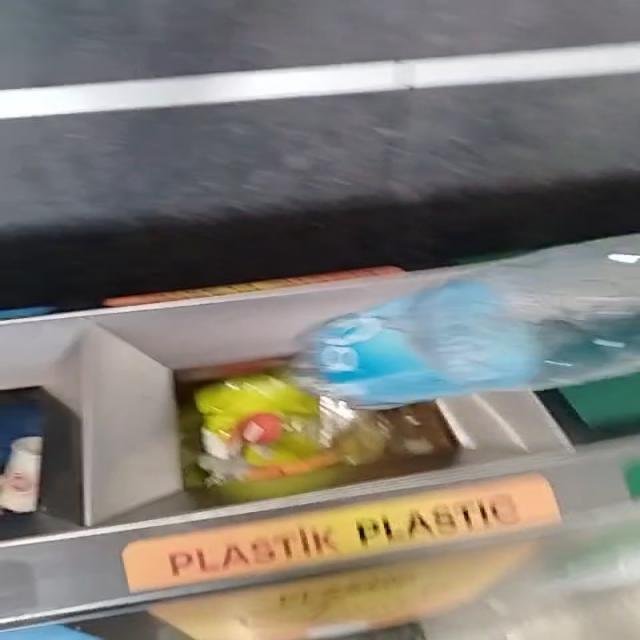Plastic: (295, 237, 640, 407)
